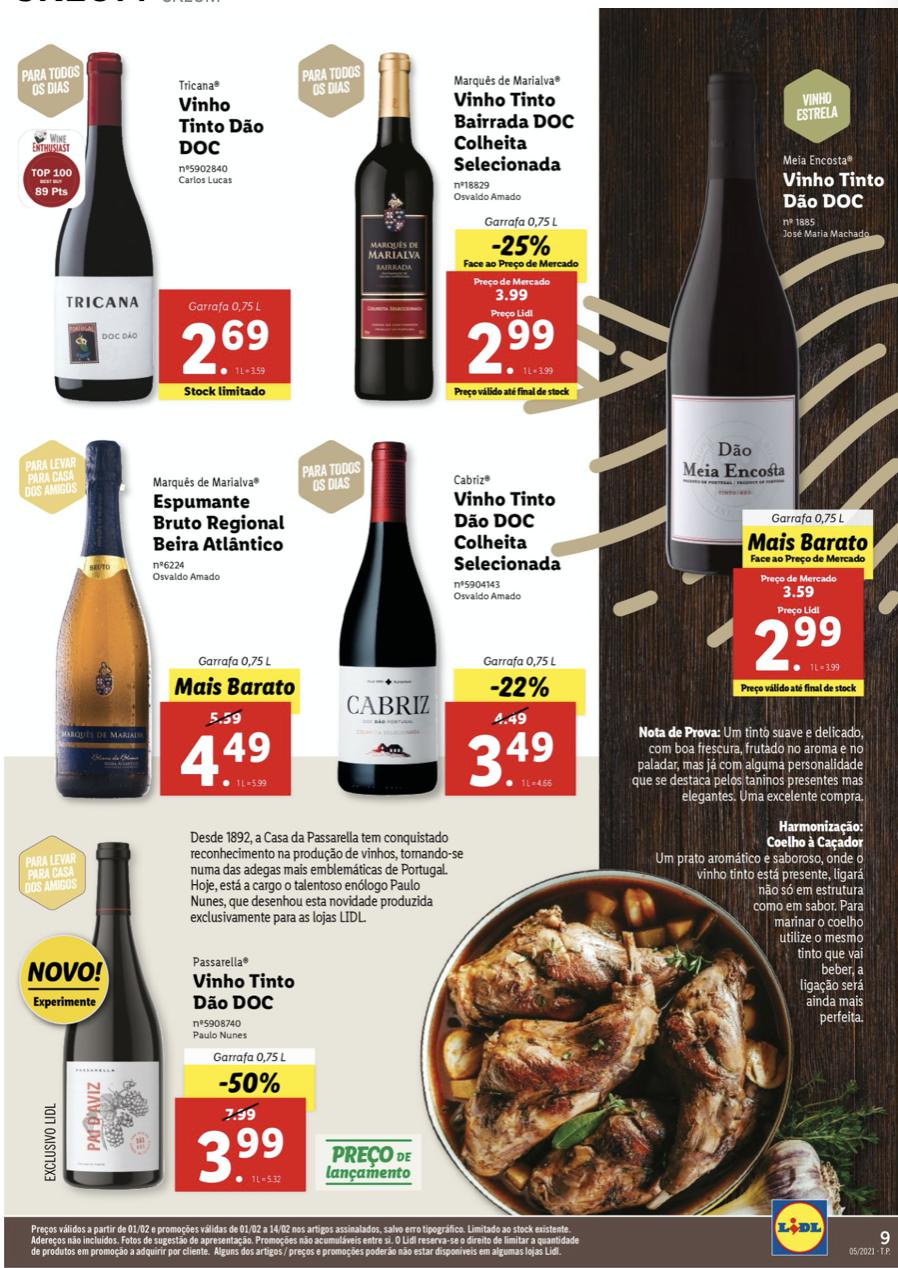name: (445, 488, 566, 583), (445, 88, 581, 172), (178, 89, 263, 170), (188, 974, 303, 1017), (778, 169, 886, 213)
price: (739, 597, 856, 680), (169, 294, 277, 381), (458, 306, 564, 383), (458, 730, 569, 794), (174, 725, 272, 788)
product: (653, 41, 884, 706), (282, 38, 593, 416), (1, 42, 309, 411), (291, 424, 588, 802), (13, 839, 314, 1202), (17, 433, 295, 822)
promotion: (483, 672, 552, 708), (486, 227, 549, 264), (213, 1070, 281, 1100)
